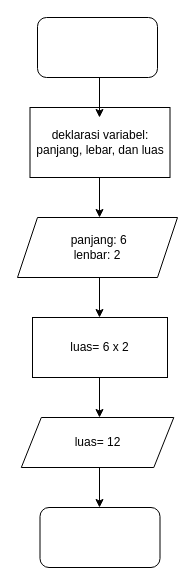
Some shapes in this 195 by 585 pixel diagram are drawn without their labels. The centre of each missing label's shape, as x and y in pixels:
end: the point at 99,537
start: the point at 97,47
